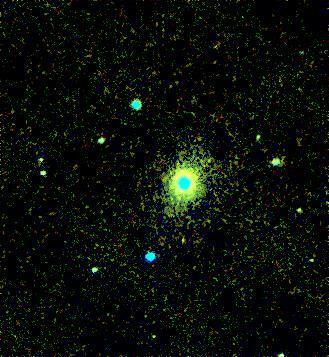star: (168, 224, 198, 254)
